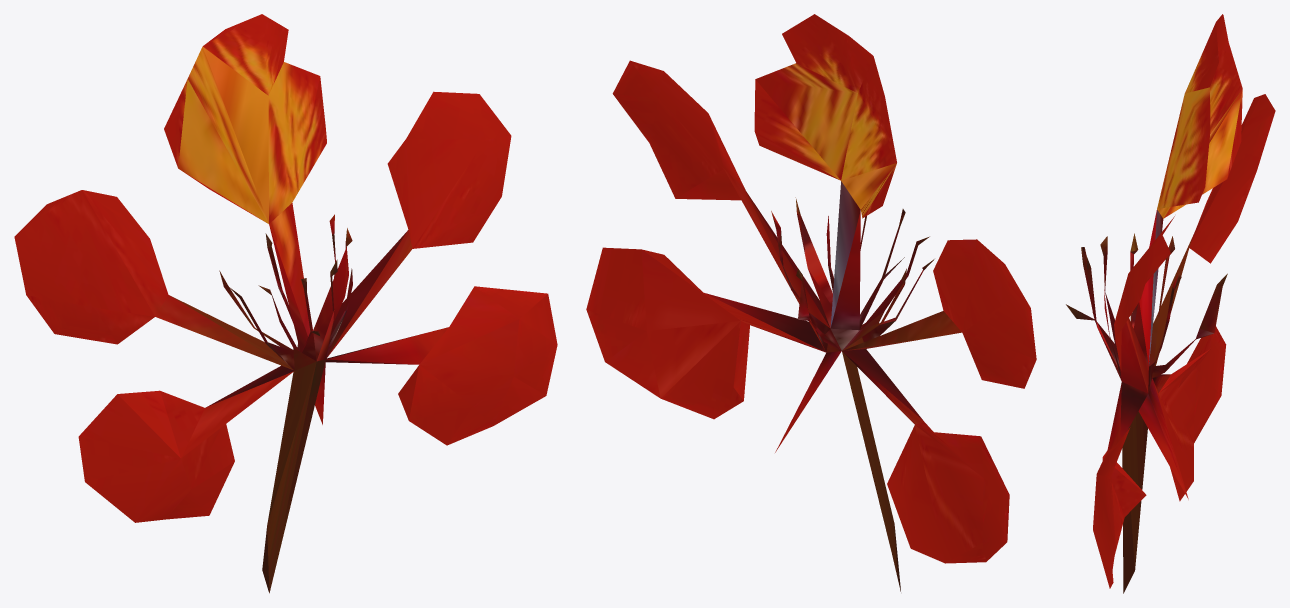
File: petals_petal_opt.glb
3 renders of one model, left to right at view 1: azimuth 30°, elevation 25°; view 2: azimuth 150°, elevation 25°; view 3: azimuth 270°, elevation 25°, orthographic. The views are drawn at different scales.
Visible parts, largest first — view 1: petals_petal; view 2: petals_petal; view 3: petals_petal.
Part boxes in pixels (x1,y1,x2,y2): petals_petal: [14, 14, 557, 593]; petals_petal: [586, 14, 1036, 591]; petals_petal: [1066, 14, 1275, 593].
Size of the model in its own units: 0.2164 by 0.2377 by 0.0767.
1 material, 1 textured.
